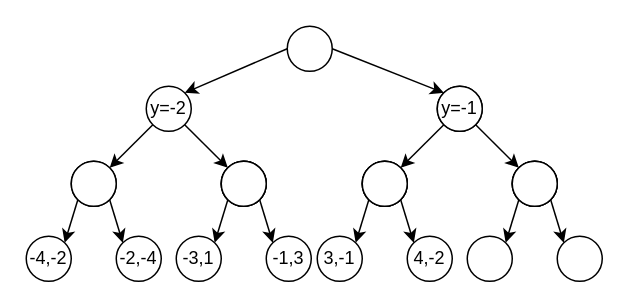
Some shapes in this 629 by 308 pixel diagram are drawn without their labels. The centre of each missing label's shape, as x and y in pixels:
"x=-1" belongs at [309,48].
"x=-2" belongs at [243,183].
"x=-4" belongs at [93,183].
"x=3" belongs at [384,183].
